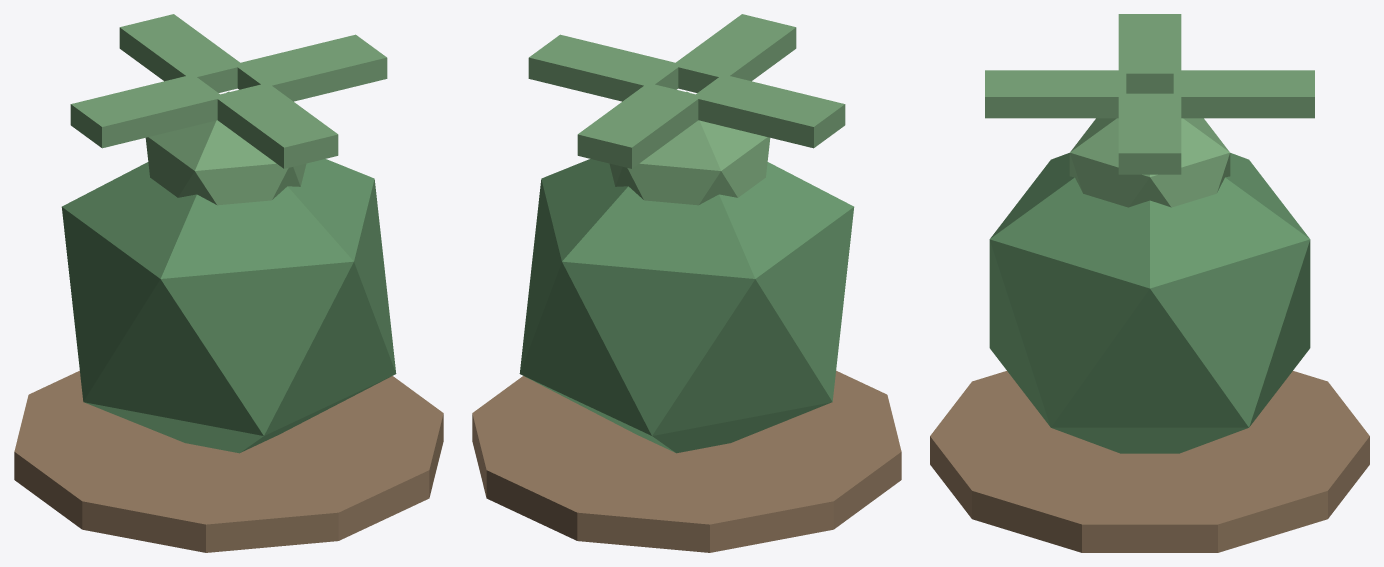
The model's file is pla_kokedama.glb.
3 views of the same model, side by side, from view 1: azimuth 30°, elevation 25°; view 2: azimuth 150°, elevation 25°; view 3: azimuth 270°, elevation 25° (orthographic).
Parts seen in each view (by area): view 1: PLA_KOKEDAMA_v01; view 2: PLA_KOKEDAMA_v01; view 3: PLA_KOKEDAMA_v01.
Boxes of the visible parts, x1=… form: PLA_KOKEDAMA_v01: x1=14, y1=14, x2=443, y2=552; PLA_KOKEDAMA_v01: x1=472, y1=14, x2=901, y2=552; PLA_KOKEDAMA_v01: x1=930, y1=14, x2=1369, y2=552.
Bounding box in the file's own units: 0.2663 × 0.2675 × 0.28.
